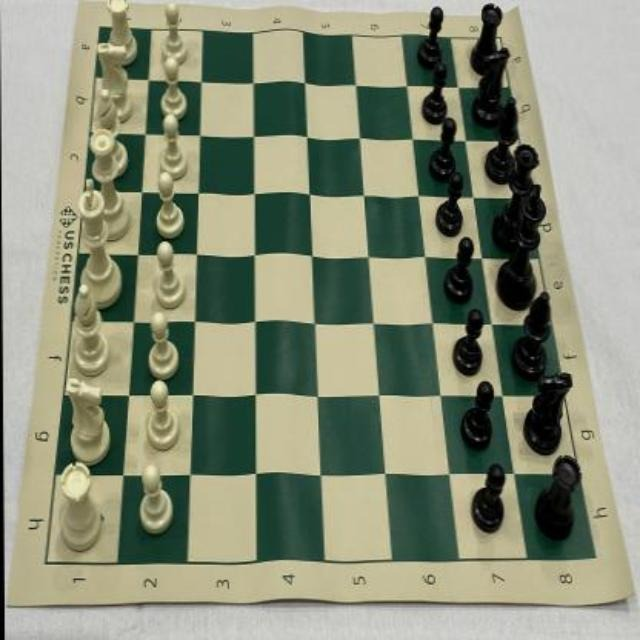black-bishop: (511, 289, 552, 379), (484, 98, 520, 184)
black-king: (496, 182, 548, 309)
black-knight: (523, 369, 573, 453), (471, 48, 511, 126)
black-pawn: (470, 463, 506, 533), (460, 381, 495, 451), (452, 305, 484, 377), (441, 238, 474, 302), (436, 172, 466, 238), (428, 115, 457, 181), (414, 5, 443, 69), (421, 59, 448, 125)
black-queen: (491, 144, 538, 250)
black-rook: (535, 455, 583, 542), (470, 3, 503, 72)
white-bishop: (69, 282, 109, 375), (92, 89, 127, 178)
white-king: (74, 178, 121, 308)
white-knight: (63, 376, 110, 465), (97, 40, 133, 121)
white-pawn: (138, 381, 180, 451), (135, 466, 175, 538), (144, 313, 180, 379), (151, 173, 187, 239), (151, 241, 185, 310), (159, 1, 189, 68), (160, 116, 190, 180), (160, 58, 190, 119)
white-queen: (86, 126, 130, 241)
white-rook: (54, 457, 101, 553), (105, 0, 137, 66)
